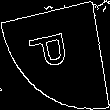P_E: (31, 32, 79, 78)
